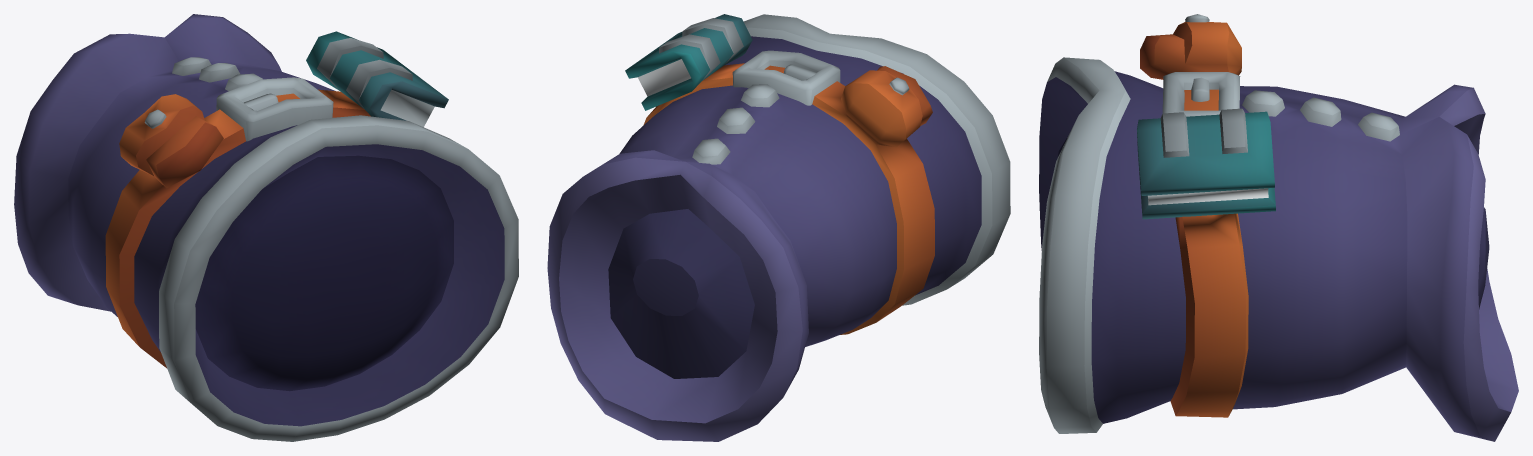
Rendered from armor_01.glb.
The picture shows the model from 3 angles, left to right: view 1: azimuth 30°, elevation 25°; view 2: azimuth 150°, elevation 25°; view 3: azimuth 270°, elevation 25°; orthographic projection. The views are drawn at different scales.
Visible parts, largest first — view 1: Armor_Robe; view 2: Armor_Robe; view 3: Armor_Robe.
Part boxes in pixels (box(x1,y1,x2,y2)): Armor_Robe: box(14, 14, 518, 441); Armor_Robe: box(547, 14, 1010, 441); Armor_Robe: box(1039, 14, 1518, 441).
Bounding box in the file's own units: 0.8521 × 0.7665 × 0.9531.
Materials: 1 (1 with a texture image).
